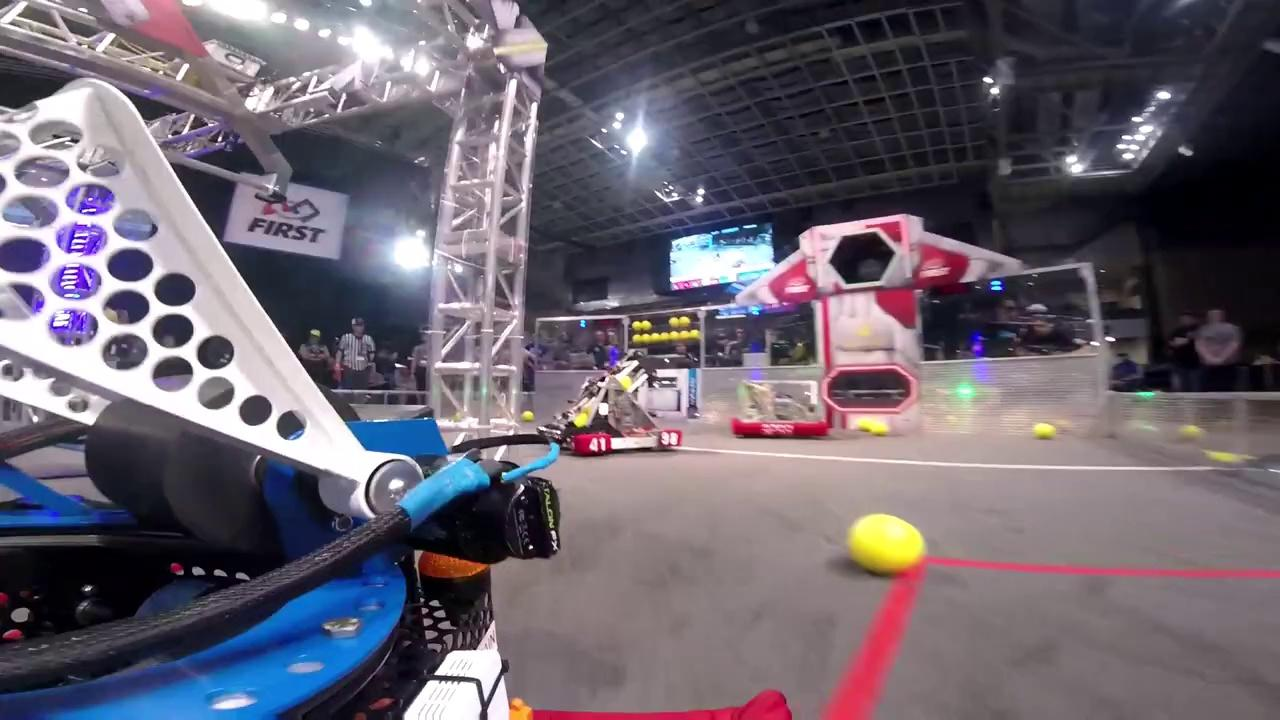robot: (536, 348, 689, 457), (729, 377, 831, 440)
